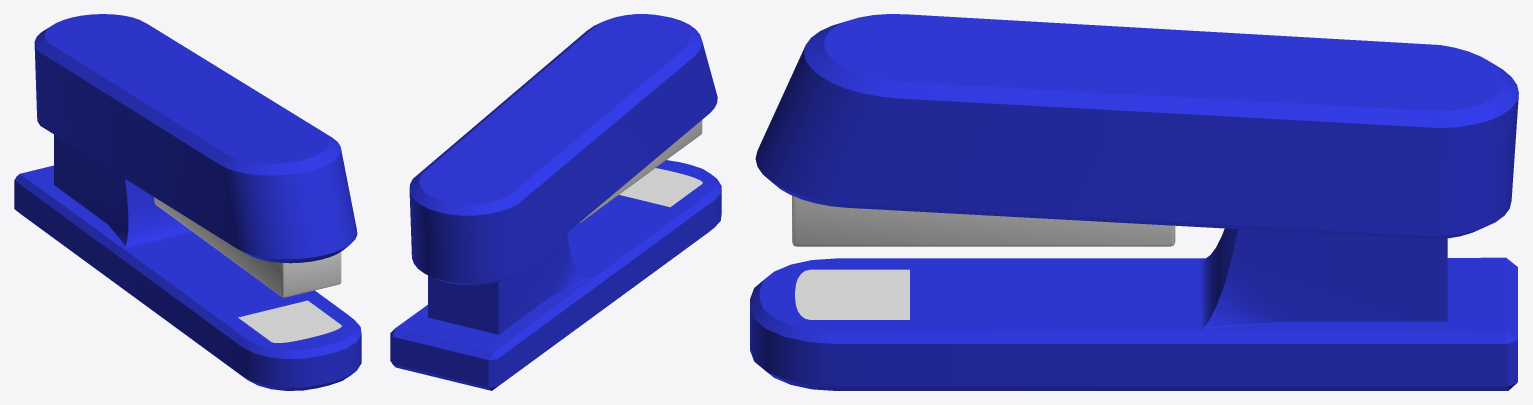
Rendered from zszywacz.fbx.
3 renders of one model, left to right at view 1: azimuth 30°, elevation 25°; view 2: azimuth 150°, elevation 25°; view 3: azimuth 270°, elevation 25°, orthographic. The views are drawn at different scales.
Parts seen in each view (by area): view 1: zszywacz; view 2: zszywacz; view 3: zszywacz.
Part boxes in pixels (bbox=[...]): zszywacz: bbox=[14, 14, 361, 390]; zszywacz: bbox=[390, 14, 721, 390]; zszywacz: bbox=[750, 14, 1518, 390].
Bounding box in the file's own units: 200 × 359 × 804.
